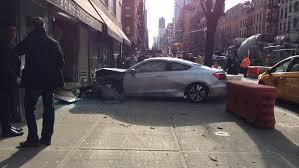doorouter-dent: (169, 71, 188, 97)
